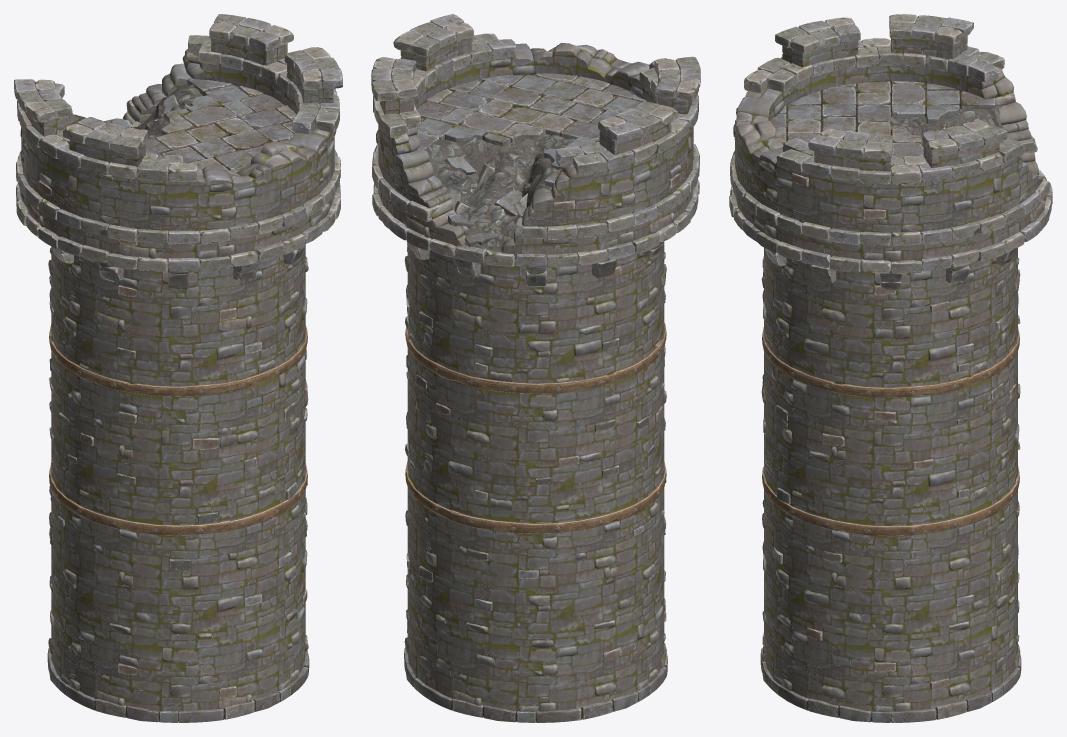
The picture shows the model from 3 angles, left to right: view 1: azimuth 30°, elevation 25°; view 2: azimuth 150°, elevation 25°; view 3: azimuth 270°, elevation 25°; orthographic projection.
Visible parts, largest first — view 1: SM_Fortress_Tower_4x12_01_v2_Dmg_LOD0; view 2: SM_Fortress_Tower_4x12_01_v2_Dmg_LOD0; view 3: SM_Fortress_Tower_4x12_01_v2_Dmg_LOD0.
Boxes of the visible parts, bbox=[...] form: SM_Fortress_Tower_4x12_01_v2_Dmg_LOD0: bbox=[14, 14, 342, 722]; SM_Fortress_Tower_4x12_01_v2_Dmg_LOD0: bbox=[371, 14, 700, 722]; SM_Fortress_Tower_4x12_01_v2_Dmg_LOD0: bbox=[729, 14, 1052, 722].
Size of the model in its own units: 9.38 by 18.66 by 9.33.
Materials: 6 (6 with a texture image).
